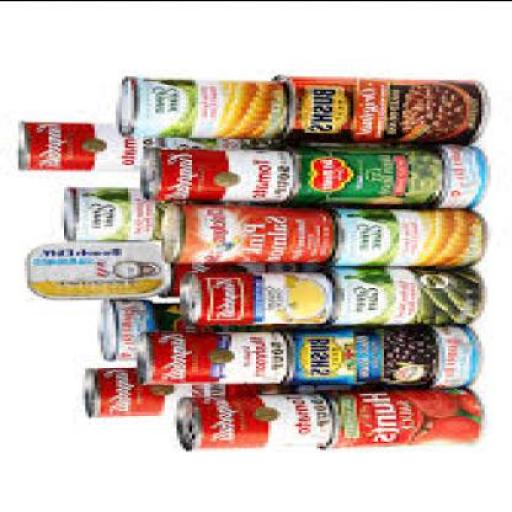metal: (274, 72, 482, 140), (80, 365, 342, 417), (272, 322, 478, 384), (155, 201, 332, 263), (314, 384, 479, 448), (272, 143, 442, 205), (119, 74, 280, 138), (326, 205, 485, 263), (332, 262, 482, 320), (170, 392, 330, 446), (178, 268, 332, 322), (137, 146, 290, 200), (134, 331, 287, 383), (22, 240, 168, 294), (15, 121, 162, 169), (67, 184, 158, 238), (150, 299, 296, 331), (433, 140, 478, 204), (104, 297, 150, 358), (161, 133, 262, 146)
